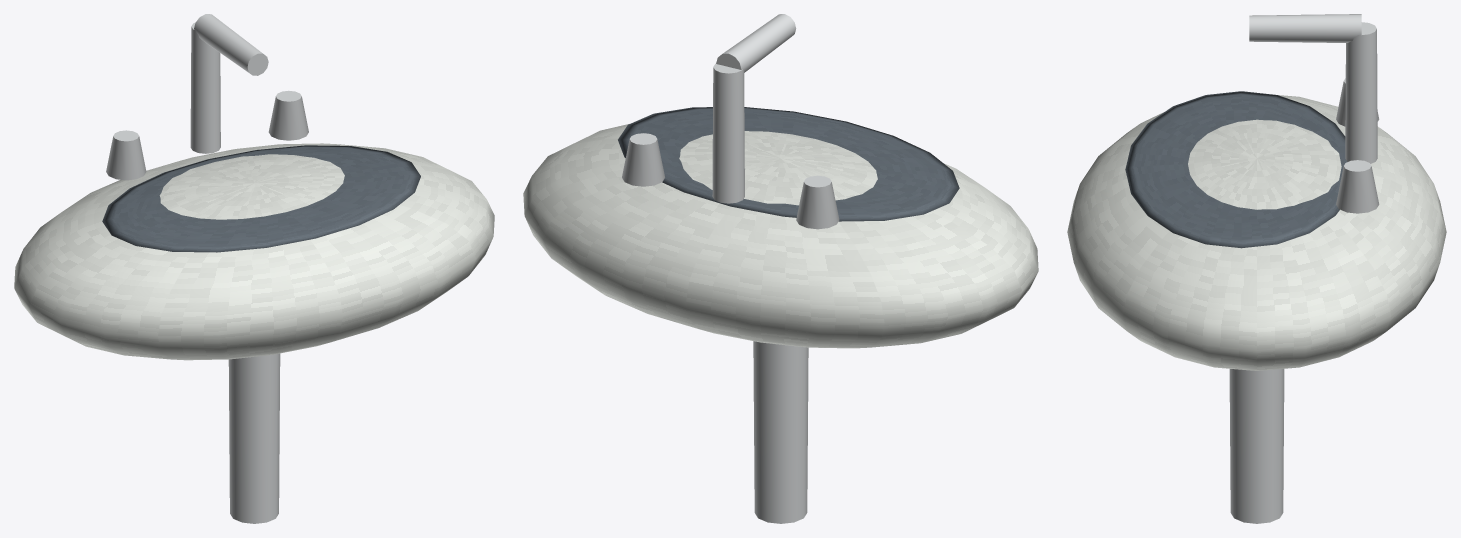
The model's file is sink_wall01.glb.
3 renders of one model, left to right at view 1: azimuth 30°, elevation 25°; view 2: azimuth 150°, elevation 25°; view 3: azimuth 270°, elevation 25°, orthographic. The views are drawn at different scales.
Parts seen in each view (by area): view 1: basin, basin_inside, drain, tap, handles, spout; view 2: basin, basin_inside, drain, tap, handles, spout; view 3: basin, basin_inside, drain, tap, spout, handles.
Part boxes in pixels (<box>): basin: <box>14,143,494,360</box>; basin_inside: <box>102,145,420,252</box>; drain: <box>228,353,280,523</box>; tap: <box>190,22,220,153</box>; handles: <box>106,90,308,180</box>; spout: <box>194,14,268,75</box>; basin: <box>523,124,1038,348</box>; basin_inside: <box>618,107,959,221</box>; drain: <box>753,341,808,523</box>; tap: <box>712,63,744,203</box>; handles: <box>622,133,839,229</box>; spout: <box>716,14,796,72</box>; basin: <box>1067,95,1446,370</box>; basin_inside: <box>1125,91,1347,248</box>; drain: <box>1229,369,1284,523</box>; tap: <box>1345,22,1377,163</box>; spout: <box>1249,14,1361,42</box>; handles: <box>1336,78,1379,213</box>.
Size of the model in its own units: 0.72 by 0.709 by 0.49.
Materials: 3 (2 with a texture image).
